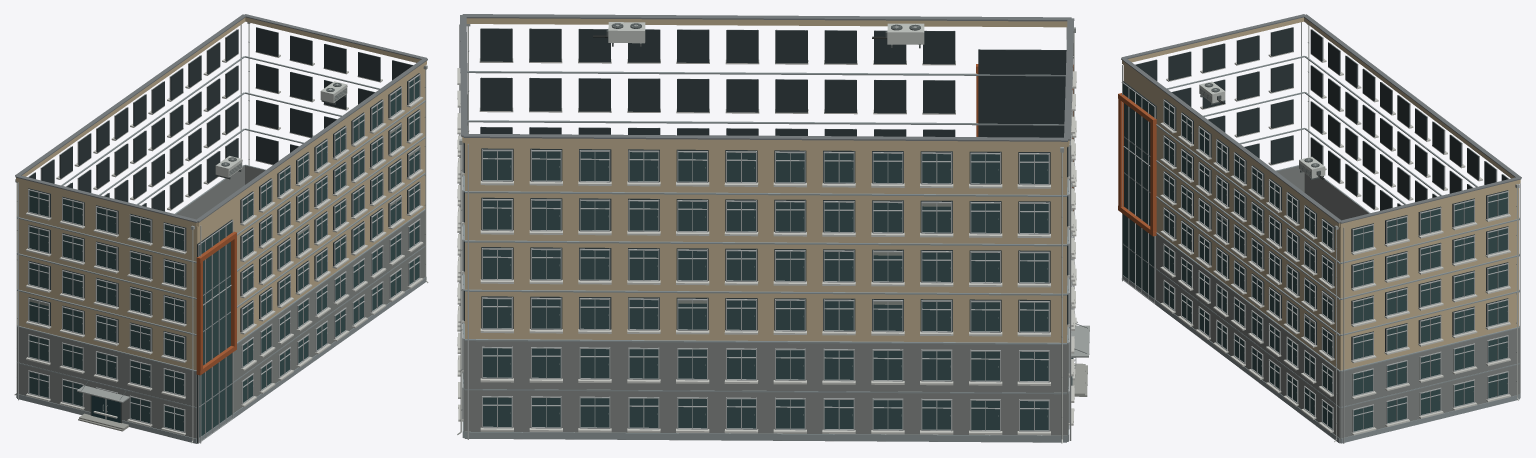
Rendered from osm_way_1173057052.glb.
The picture shows the model from 3 angles, left to right: view 1: azimuth 30°, elevation 25°; view 2: azimuth 150°, elevation 25°; view 3: azimuth 270°, elevation 25°; orthographic projection. The views are drawn at different scales.
Visible parts, largest first — view 1: Windows and facade details | 地理与生物信息学院, Architecture | 地理与生物信息学院, Roof services | 地理与生物信息学院, EXTERIOR::osm_way_1173057052::rainwater and roof service det, EXTERIOR::osm_way_1173057052::inferred entry doors canopy an; view 2: Windows and facade details | 地理与生物信息学院, Architecture | 地理与生物信息学院, Roof services | 地理与生物信息学院, EXTERIOR::osm_way_1173057052::rainwater and roof service det, EXTERIOR::osm_way_1173057052::inferred entry doors canopy an; view 3: Windows and facade details | 地理与生物信息学院, Architecture | 地理与生物信息学院, Roof services | 地理与生物信息学院, EXTERIOR::osm_way_1173057052::rainwater and roof service det.
Part boxes in pixels (x1,y1,x2,y2): Windows and facade details | 地理与生物信息学院: (18, 24, 423, 443); Architecture | 地理与生物信息学院: (16, 17, 426, 443); Roof services | 地理与生物信息学院: (15, 14, 427, 222); EXTERIOR::osm_way_1173057052::rainwater and roof service det: (14, 22, 428, 443); EXTERIOR::osm_way_1173057052::inferred entry doors canopy an: (77, 381, 129, 431); Windows and facade details | 地理与生物信息学院: (457, 24, 1076, 440); Architecture | 地理与生物信息学院: (462, 18, 1073, 442); Roof services | 地理与生物信息学院: (460, 14, 1074, 141); EXTERIOR::osm_way_1173057052::rainwater and roof service det: (457, 22, 1077, 443); EXTERIOR::osm_way_1173057052::inferred entry doors canopy an: (1071, 323, 1089, 396); Windows and facade details | 地理与生物信息学院: (1121, 22, 1520, 443); Architecture | 地理与生物信息学院: (1118, 17, 1520, 443); Roof services | 地理与生物信息学院: (1121, 14, 1521, 223); EXTERIOR::osm_way_1173057052::rainwater and roof service det: (1199, 24, 1519, 441).
Bounding box in the file's own units: 45.99 × 23.58 × 37.58.
